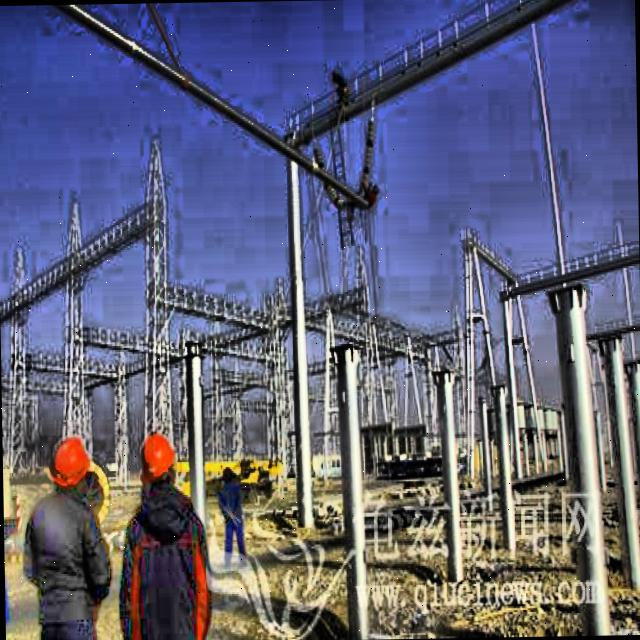helmet: (50, 434, 96, 502), (140, 429, 177, 492)
